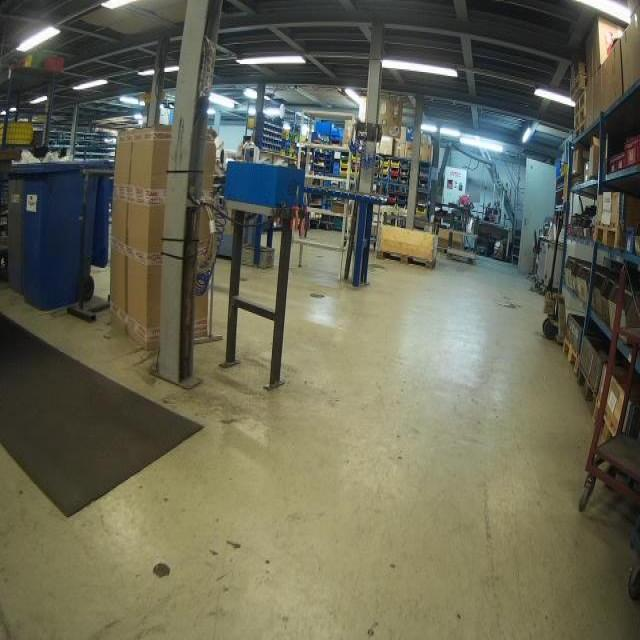pallet: (375, 246, 437, 271), (576, 360, 598, 415), (593, 397, 615, 448), (560, 333, 581, 378), (593, 223, 626, 251), (572, 118, 588, 143), (574, 87, 587, 116), (572, 105, 586, 130)
pallet_truck: (542, 206, 570, 341)
small_load_carrier: (602, 151, 626, 179), (626, 139, 640, 168)
